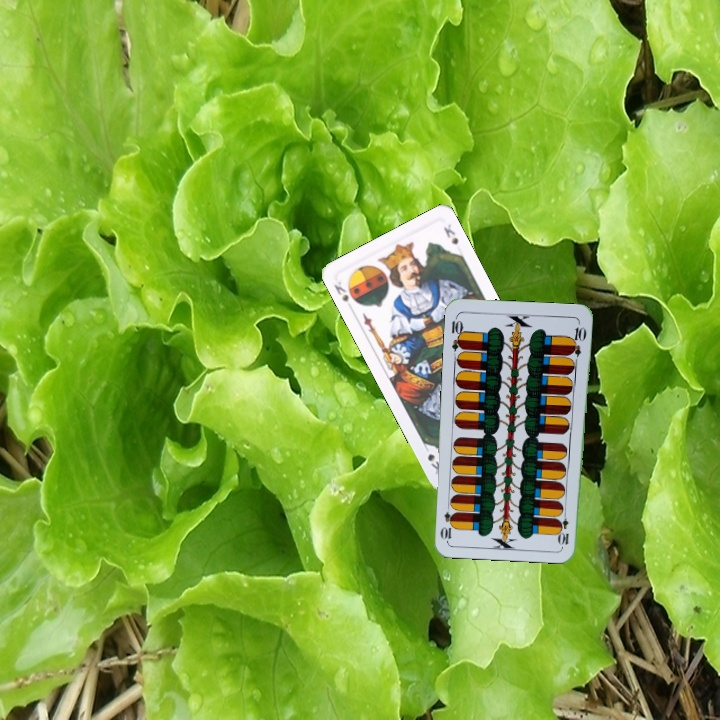E10: (447, 312, 467, 353), (557, 507, 571, 547)
SK: (330, 277, 360, 307)
